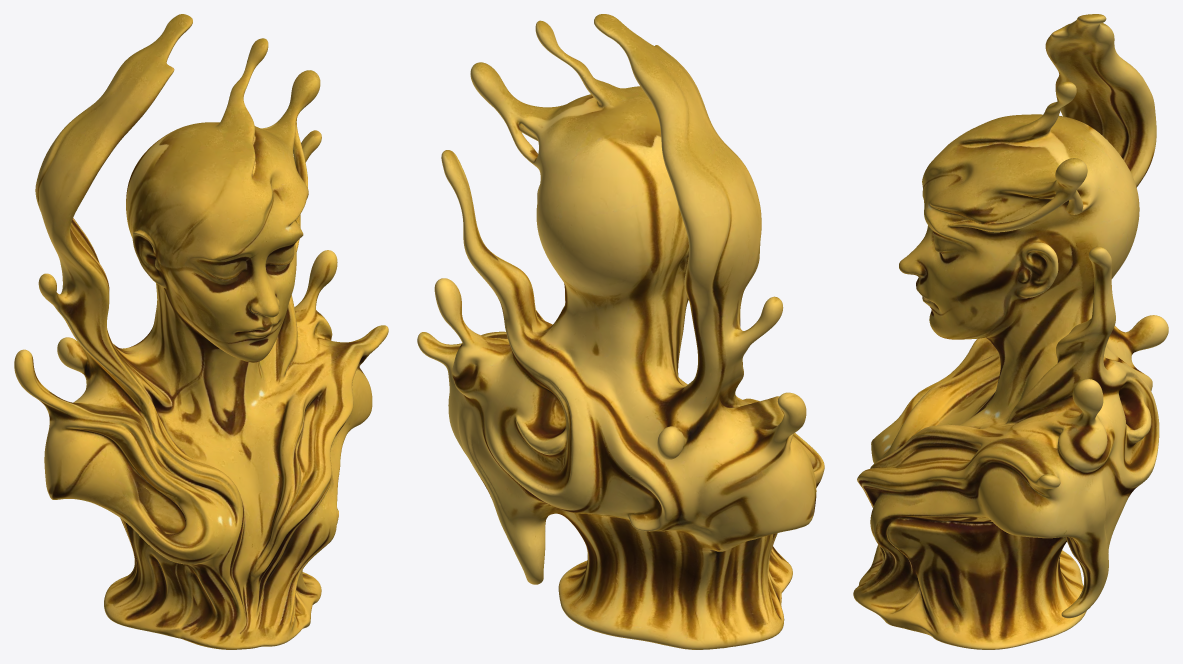
File: escultura-oro.glb
The picture shows the model from 3 angles, left to right: view 1: azimuth 30°, elevation 25°; view 2: azimuth 150°, elevation 25°; view 3: azimuth 270°, elevation 25°; orthographic projection. The views are drawn at different scales.
Bounding box in the file's own units: 1.29 × 1.9 × 0.9131.
1 material, 1 textured.
